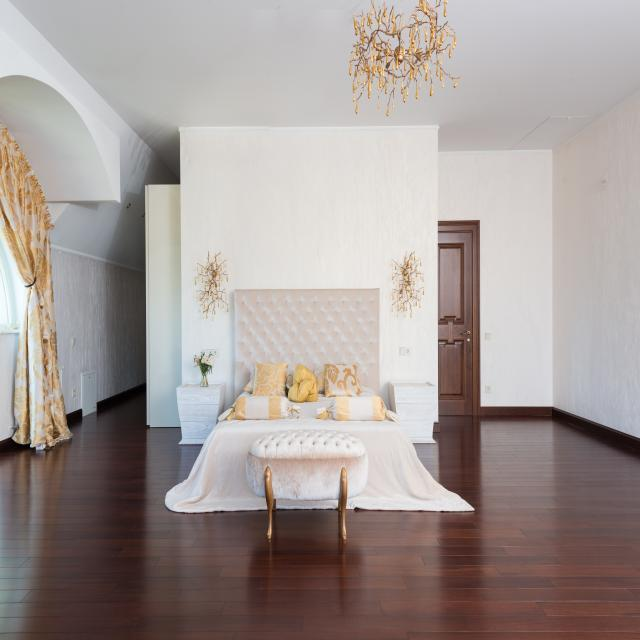floor: (0, 393, 640, 640)
wall: (180, 125, 440, 432), (552, 90, 640, 458), (438, 150, 553, 417), (0, 25, 122, 204), (51, 245, 147, 424), (145, 185, 181, 428)
